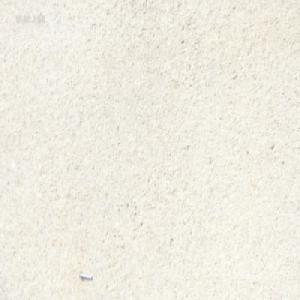Nail: (78, 270, 92, 280)
